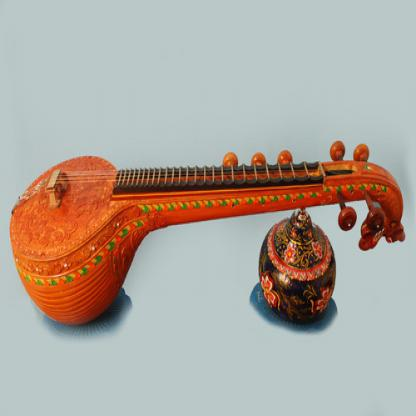Veena: (1, 114, 416, 290)
